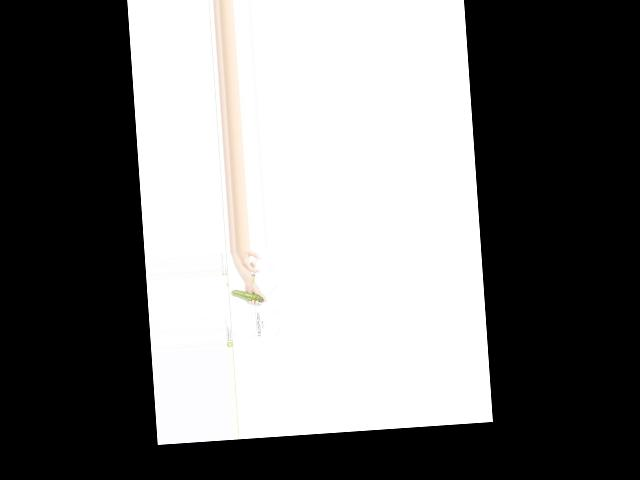cucumber: (230, 287, 263, 304)
